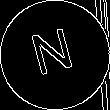N_S: (29, 26, 81, 84)
